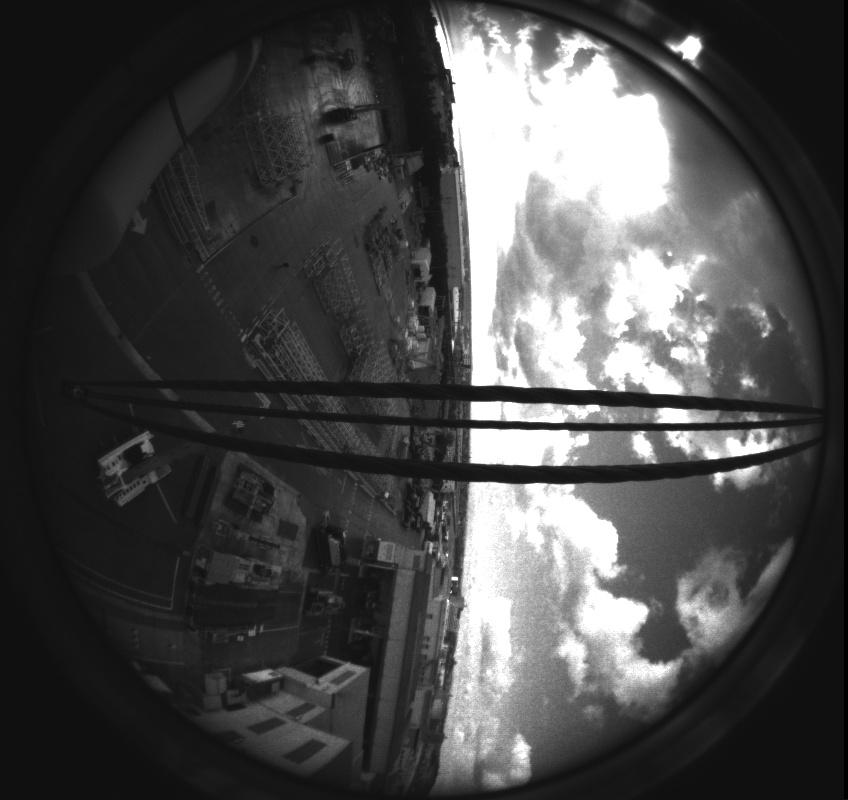rope: (19, 366, 841, 490)
